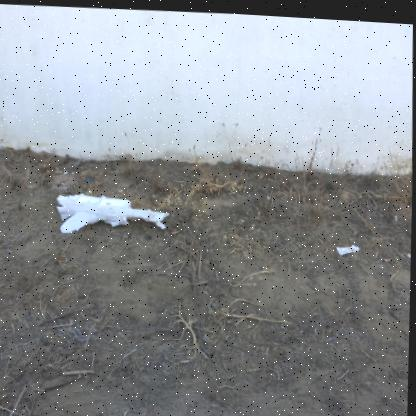Waste: (57, 192, 170, 232), (337, 240, 360, 251), (384, 253, 391, 257)
